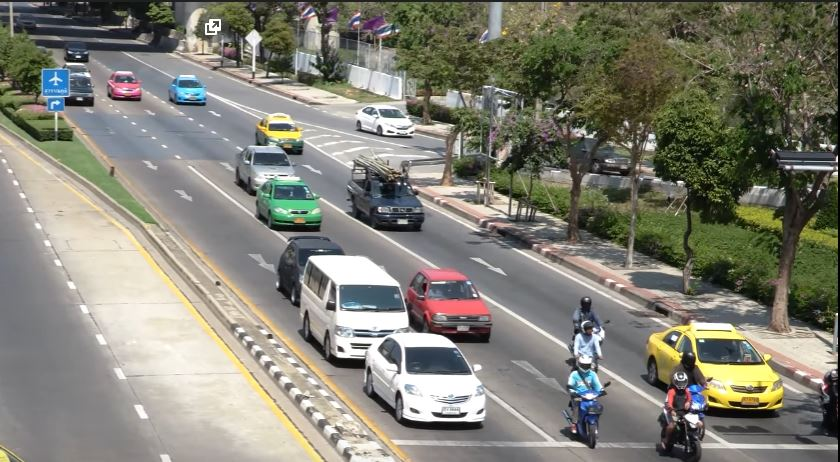Bus: (299, 253, 410, 369)
Car: (644, 319, 785, 417), (363, 331, 487, 430), (404, 267, 492, 340), (345, 153, 429, 228), (272, 235, 342, 299), (254, 176, 325, 230), (233, 143, 300, 194), (354, 102, 415, 139), (252, 112, 306, 153), (169, 73, 207, 106), (107, 70, 142, 102), (63, 77, 96, 107), (63, 39, 89, 62)
Motorcycle: (566, 356, 613, 449), (656, 372, 705, 459), (572, 295, 607, 348)
